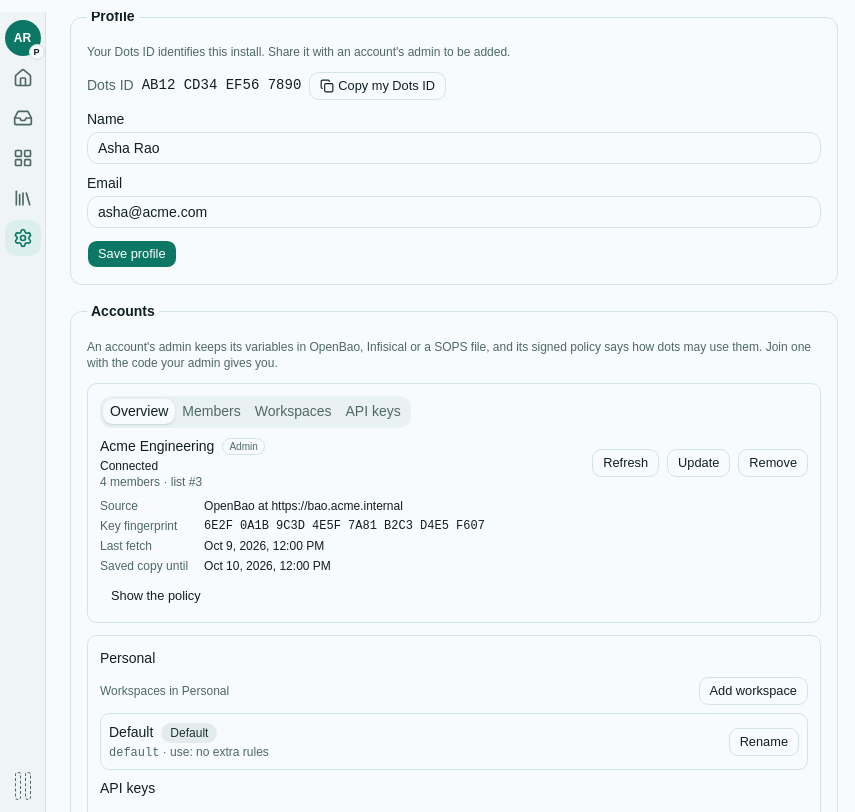
it: Settings, Accounts, Members › owner rows are locked with the owner text
The width and height of the screenshot is (855, 812).
(page scrolled)
Click the tab "Members" at x=212, y=412, box [175,399,248,424]
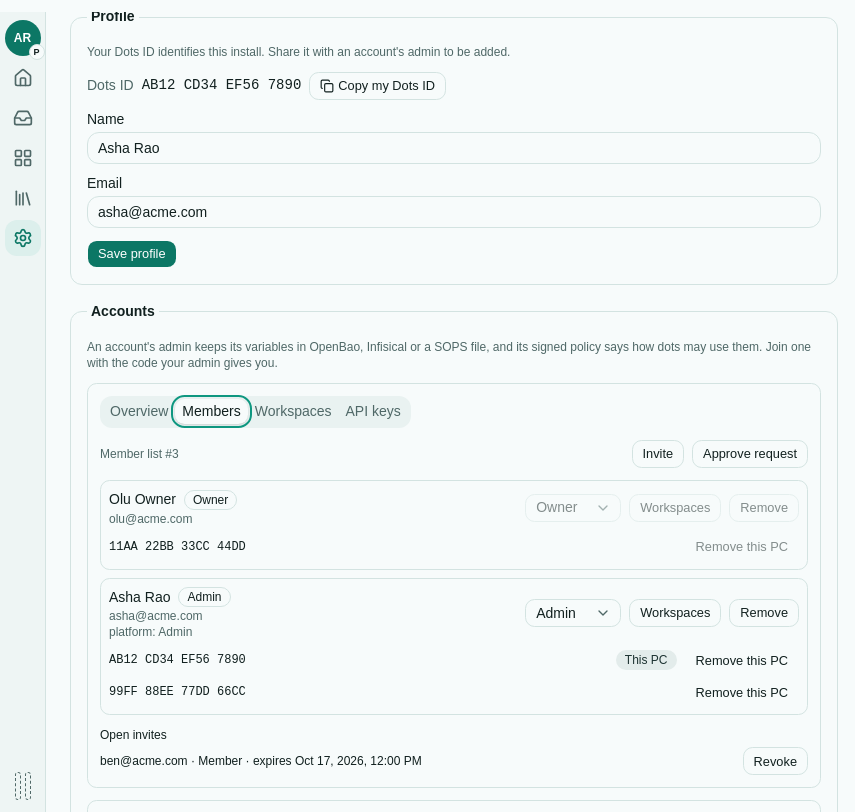
Result: the list named "Members" is shown at [100,480,808,715]
Result: the dropdown named "Role of Olu Owner" is disabled at [525,494,621,522]
Result: the button with aria-label "Remove Olu Owner" is disabled at [729,494,799,522]
